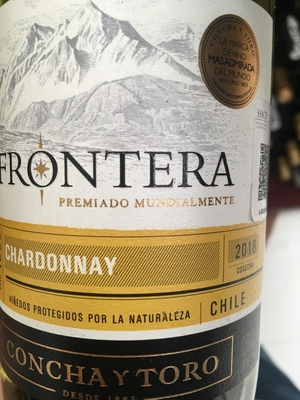frontera chardonnay: (2, 1, 274, 399)
